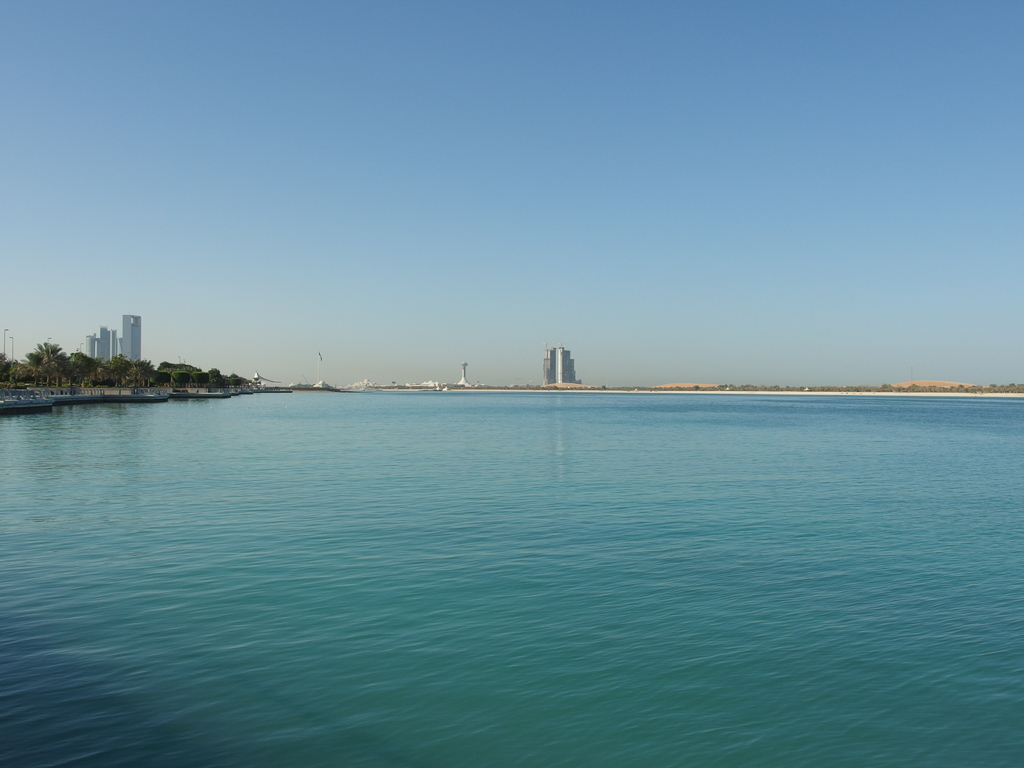Tree: (0, 338, 253, 387)
